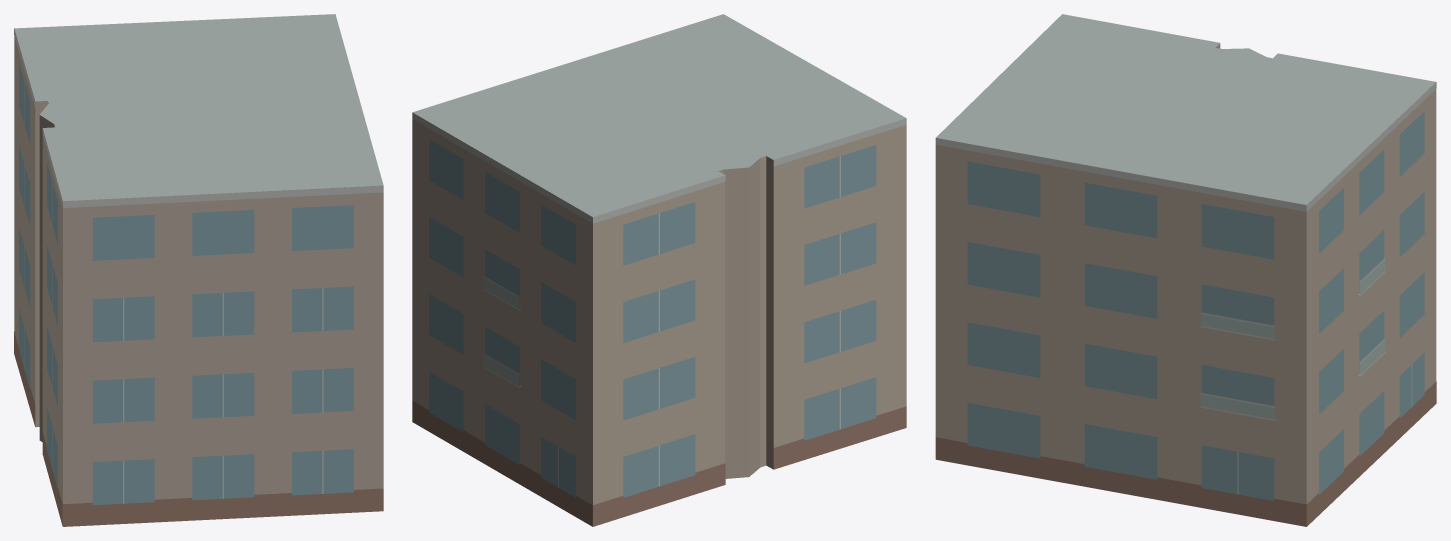
The model's file is survey-upis-32900751.glb.
The picture shows the model from 3 angles, left to right: view 1: azimuth 30°, elevation 25°; view 2: azimuth 150°, elevation 25°; view 3: azimuth 270°, elevation 25°; orthographic projection. The views are drawn at different scales.
Parts seen in each view (by area): view 1: survey-upis-32900751.tmp; view 2: survey-upis-32900751.tmp; view 3: survey-upis-32900751.tmp.
Part boxes in pixels (x1,y1,x2,y2): survey-upis-32900751.tmp: (14, 14, 383, 526); survey-upis-32900751.tmp: (412, 14, 906, 526); survey-upis-32900751.tmp: (935, 14, 1436, 526).
Size of the model in its own units: 14.66 by 11.5 by 16.23.
